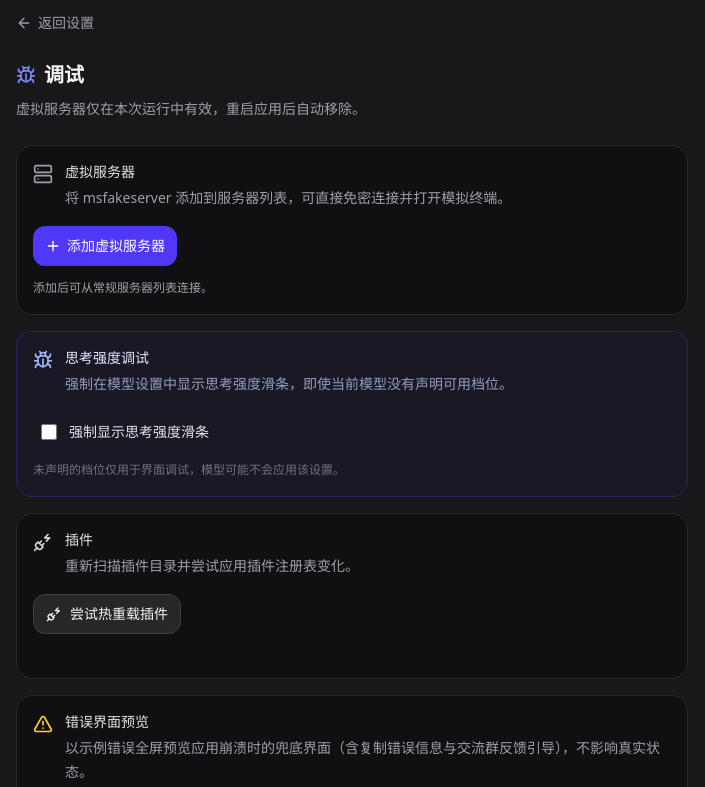
DebugPage › reloads plugins and reports changed and removed plugin counts
Click the button "尝试热重载插件".
click(107, 614)  # box x1=33 y1=594 x2=181 y2=634
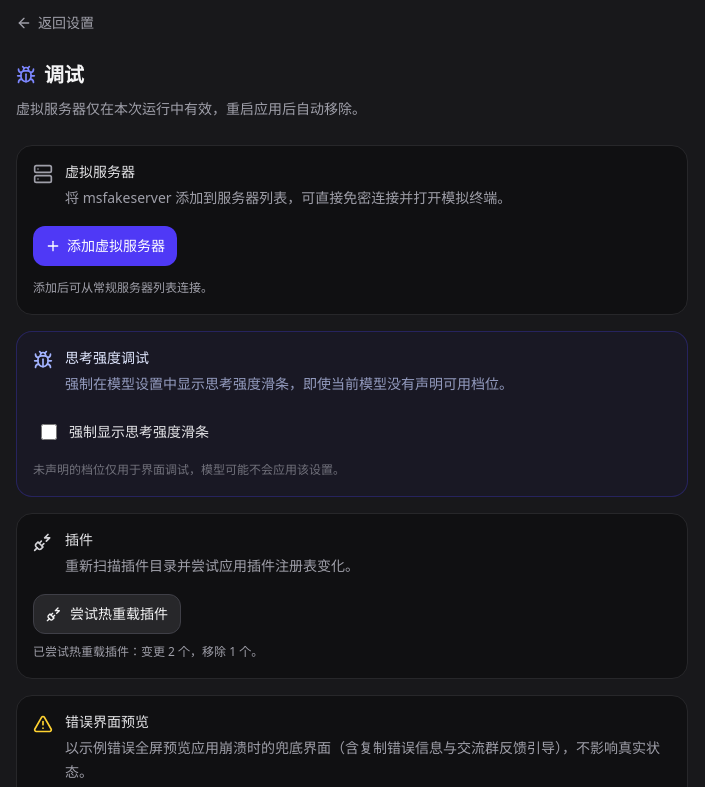
Result: the text "变更 2 个" is shown at x1=33 y1=643 x2=263 y2=660
Result: the text "移除 1 个" is shown at x1=33 y1=643 x2=263 y2=660
